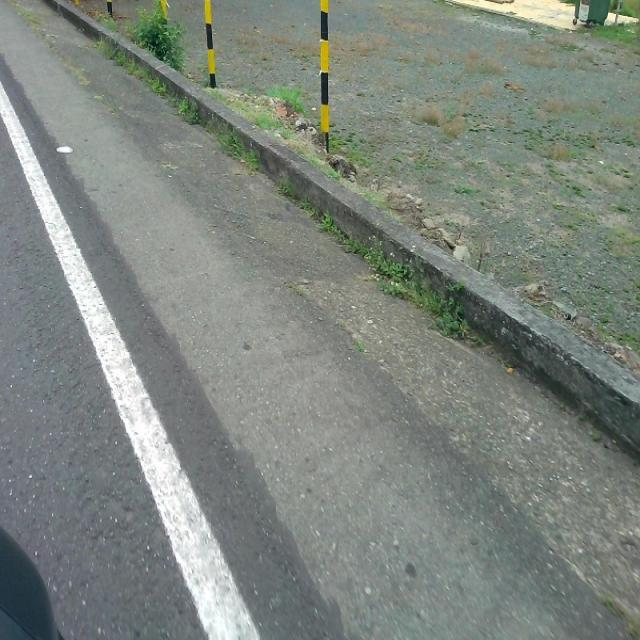DITCH: (2, 1, 638, 638), (17, 1, 638, 638)
